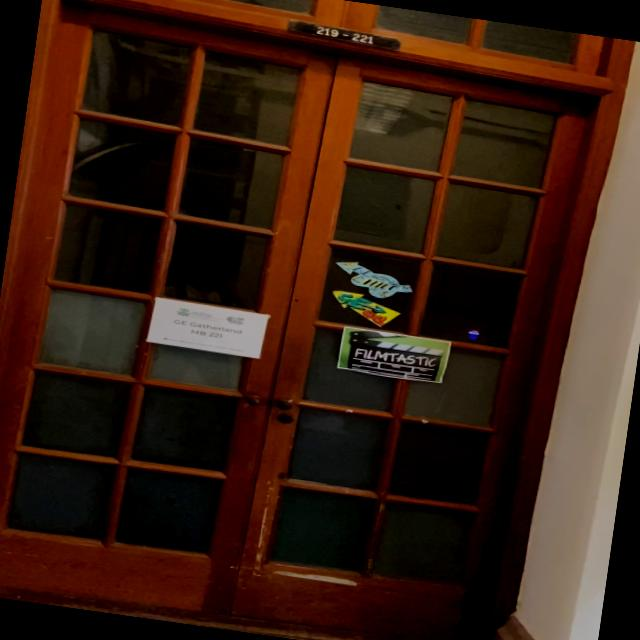room221: (280, 18, 410, 54)
